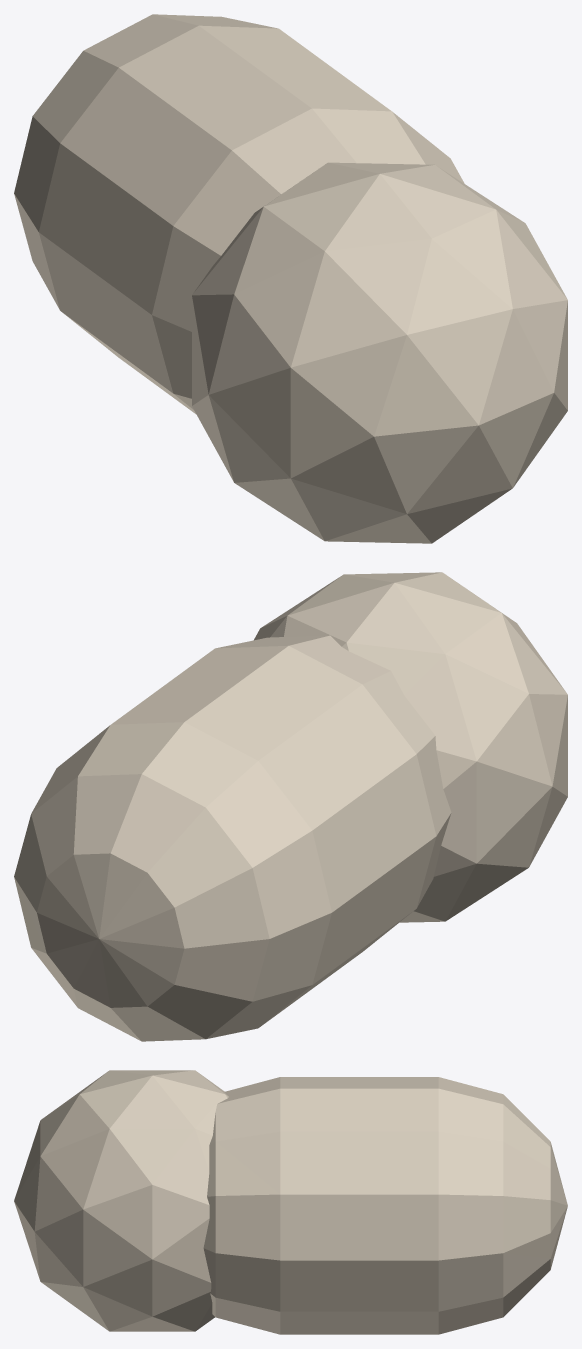
File: _lleg-shank.glb
3 renders of one model, top to bottom at view 1: azimuth 30°, elevation 25°; view 2: azimuth 150°, elevation 25°; view 3: azimuth 270°, elevation 25°, orthographic. The views are drawn at different scales.
Bounding box in the file's own units: 0.1323 × 0.1278 × 0.2557.
